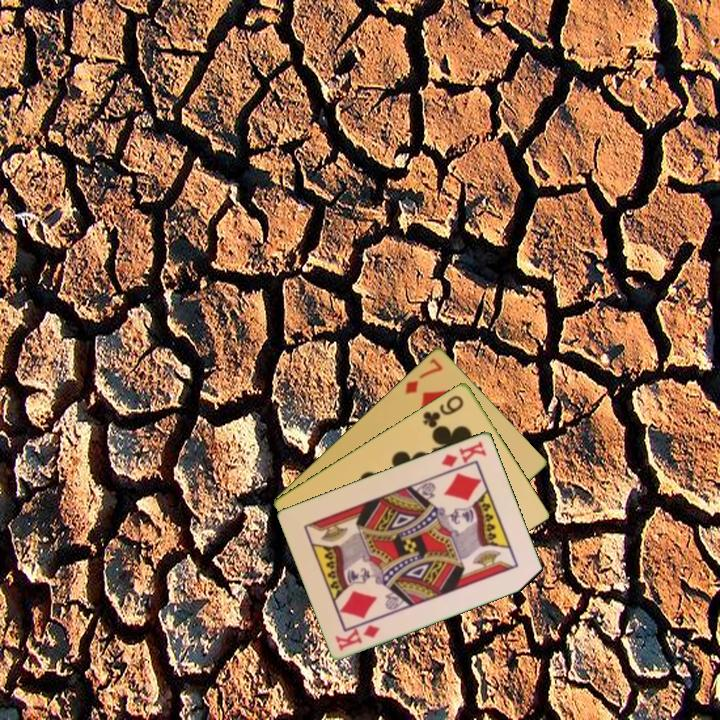7d: (401, 354, 446, 397)
9c: (419, 391, 467, 430)
Kd: (437, 437, 489, 470), (332, 621, 383, 653)
